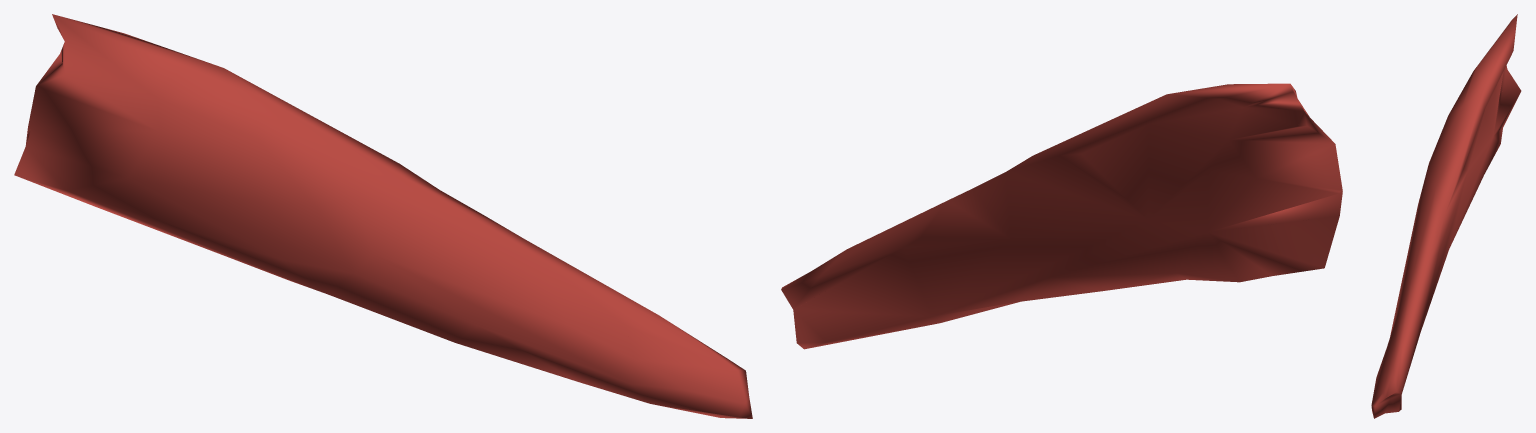
File: musculos-superficial-head-of-flexor-pollicis-brevis-l.glb
The picture shows the model from 3 angles, left to right: view 1: azimuth 30°, elevation 25°; view 2: azimuth 150°, elevation 25°; view 3: azimuth 270°, elevation 25°; orthographic projection. The views are drawn at different scales.
Parts seen in each view (by area): view 1: Superficial head of flexor pollicis brevis.l; view 2: Superficial head of flexor pollicis brevis.l; view 3: Superficial head of flexor pollicis brevis.l.
Part boxes in pixels (x1=…): Superficial head of flexor pollicis brevis.l: x1=14, y1=14, x2=752, y2=418; Superficial head of flexor pollicis brevis.l: x1=781, y1=83, x2=1342, y2=349; Superficial head of flexor pollicis brevis.l: x1=1371, y1=14, x2=1521, y2=418.
Size of the model in its own units: 0.0432 by 0.0304 by 0.0165.
